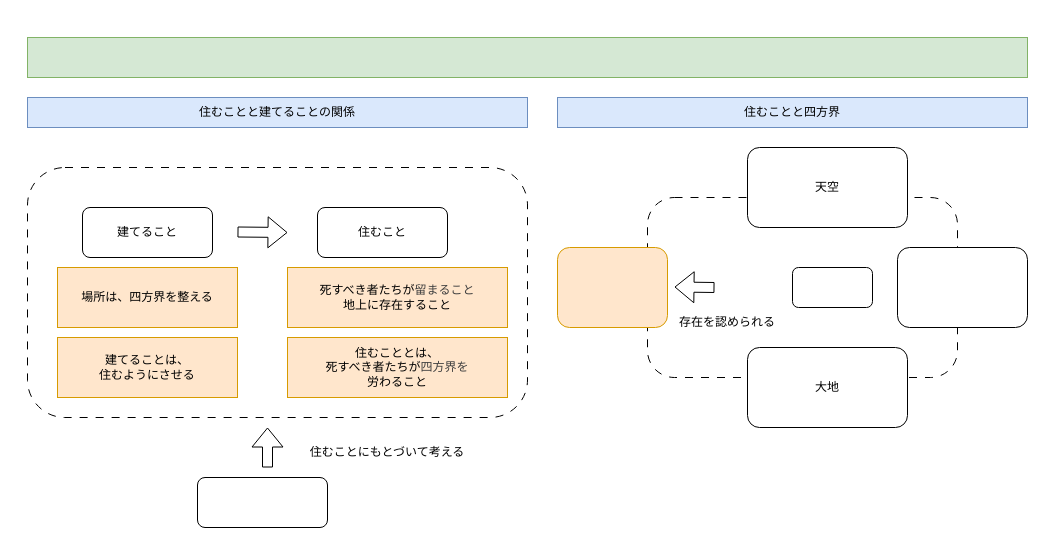
This 1054x554 diagram has some shape labels left out. The shapes that lost their labels are listed below. From the top down, each one's centre as x and y in pixels, then its label:
At (x=527, y=57): "技術とは何だろうか 住むことと建てること".
At (x=612, y=287): "死すべき者たち 人間".
At (x=832, y=287): "物 Ding".
At (x=962, y=287): "神的な者たち".
At (x=262, y=502): "考えること".
